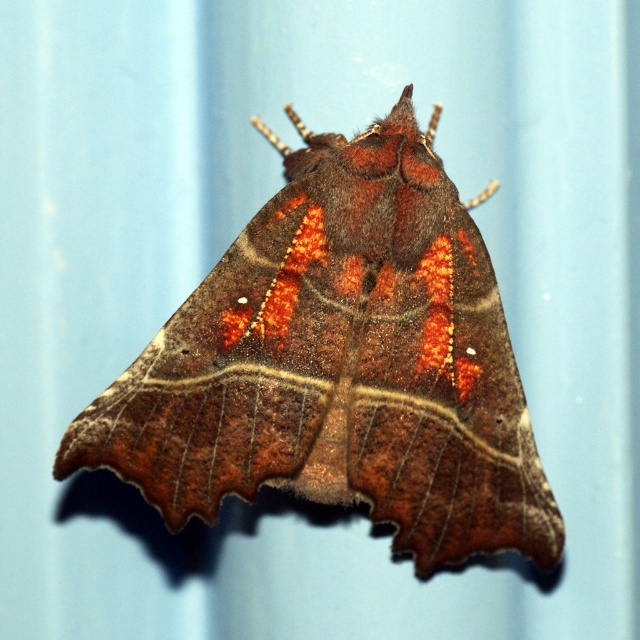Butterfly: (39, 92, 566, 569)
